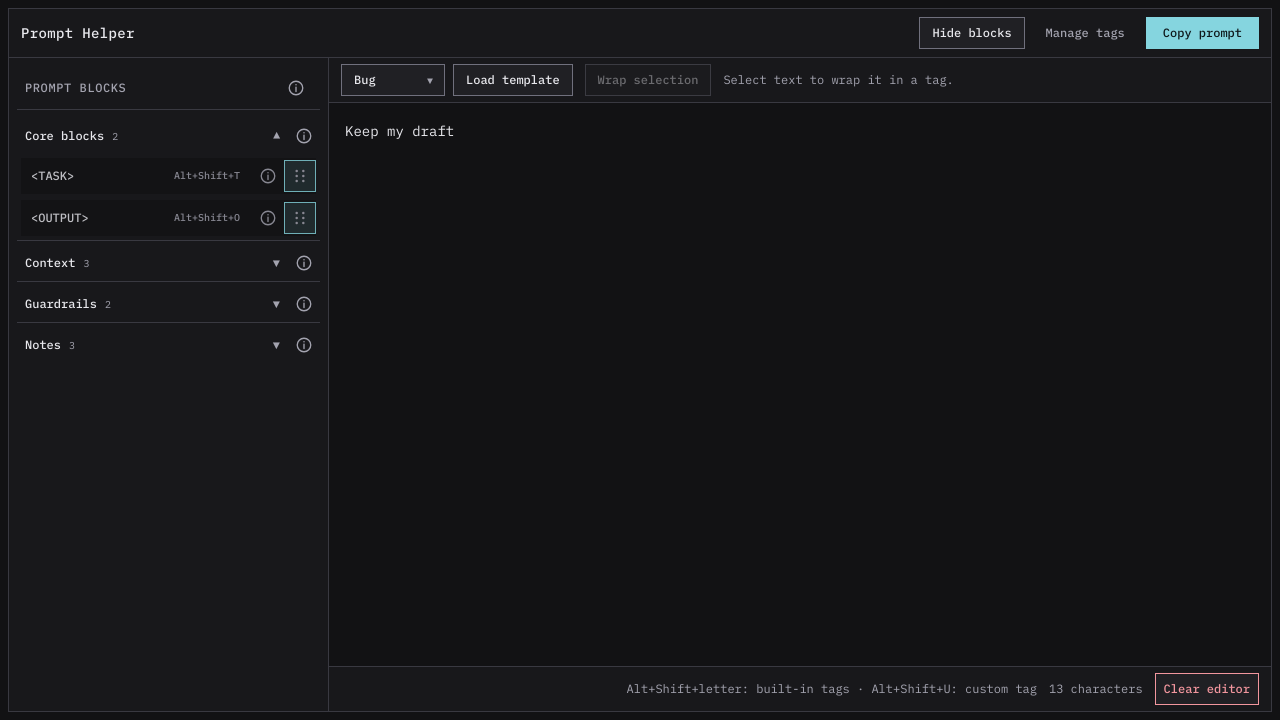
Test: Prompt Helper › preserves the saved prompt when Bug replacement is dismissed with cancel
Select "Bug" in the dropdown named "Prompt template" at (393, 80), box x1=341 y1=64 x2=445 y2=96
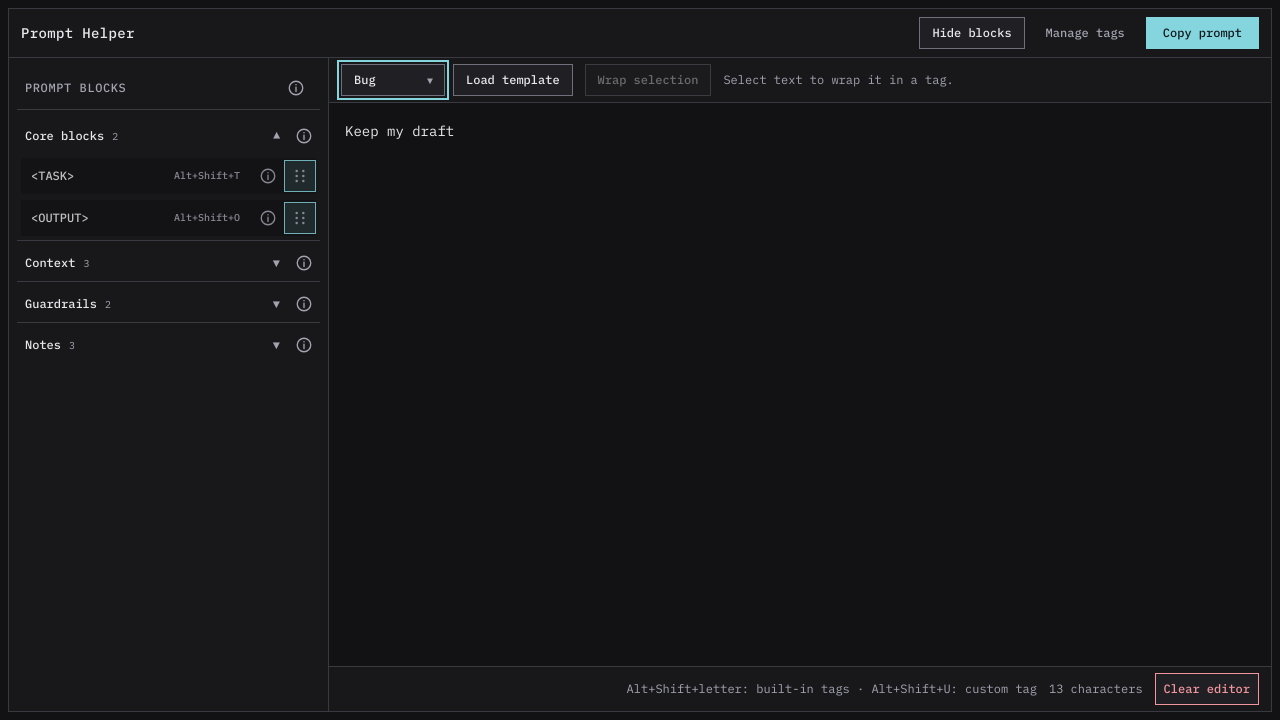
Click the button "Load template".
click(513, 80)  # box x1=453 y1=64 x2=573 y2=96
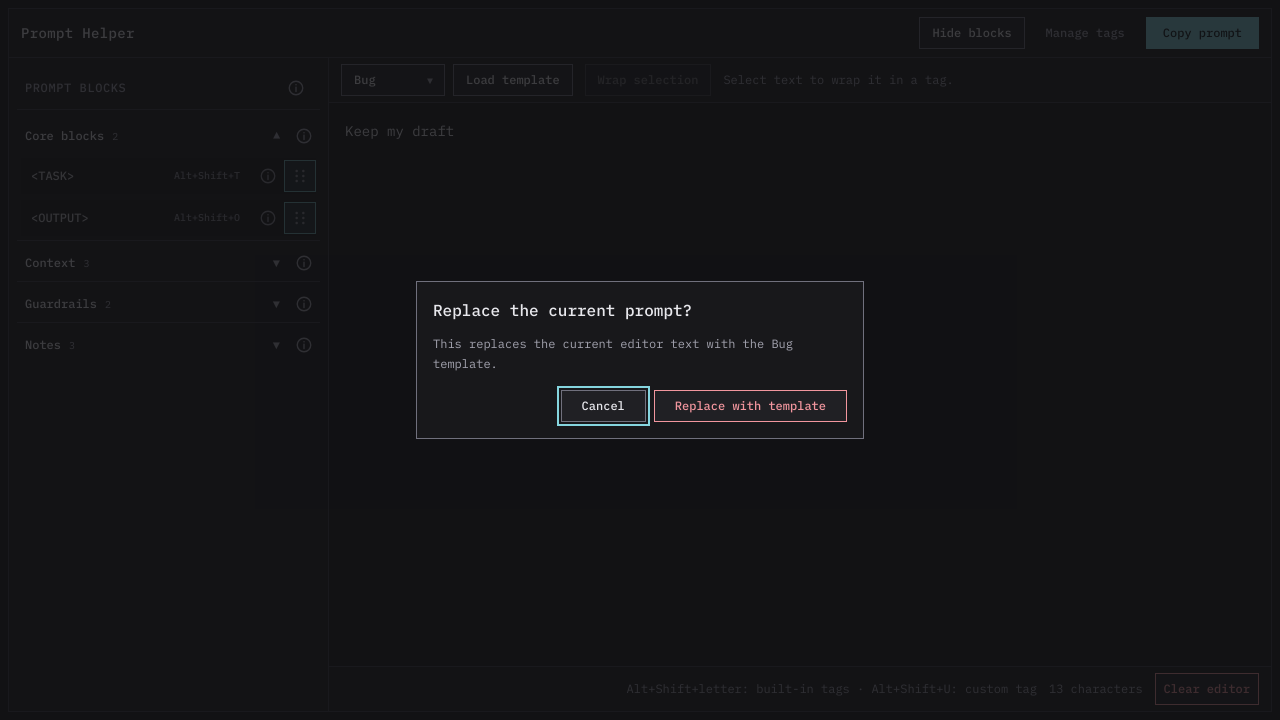
expect the text box named "Prompt editor" holds "Keep my draft": met, box x1=329 y1=103 x2=1271 y2=666
Type keys "{Alt>}{Shift>}[KeyT]{/Shift}{/Alt}"
expect the text box named "Prompt editor" holds "Keep my draft": met, box x1=329 y1=103 x2=1271 y2=666
Click the button "Cancel".
click(603, 406)  # box x1=561 y1=390 x2=646 y2=422
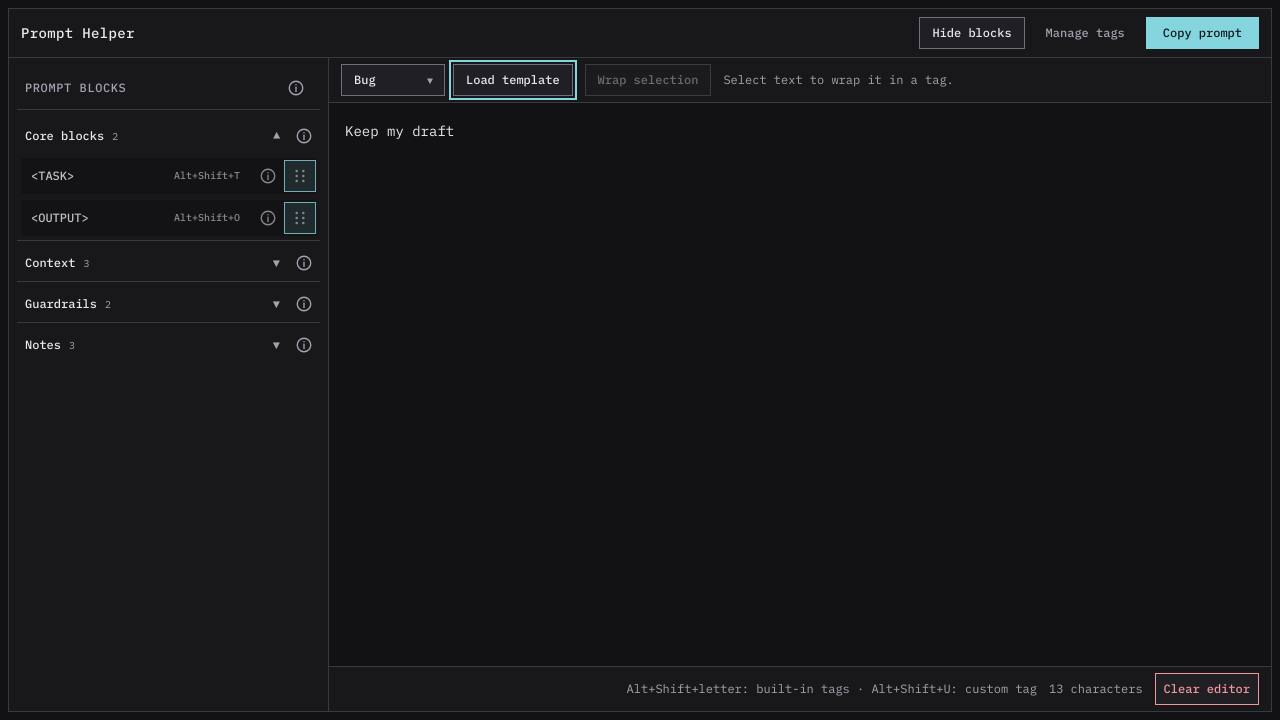
expect the text box named "Prompt editor" holds "Keep my draft": met, box x1=329 y1=103 x2=1271 y2=666
expect the heading "Replace the current prompt?" is gone: met
